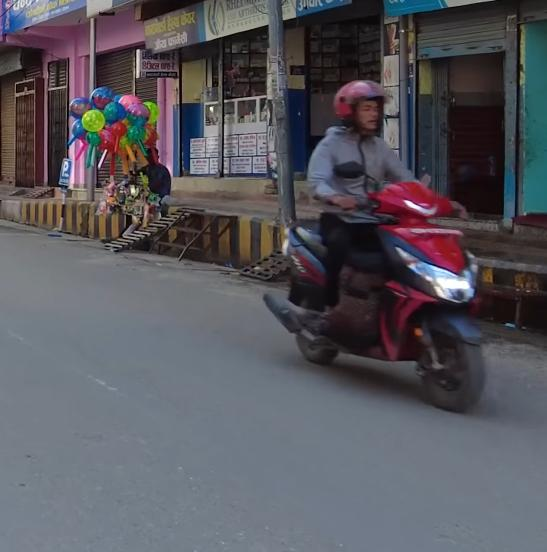scooter: (272, 149, 508, 412)
